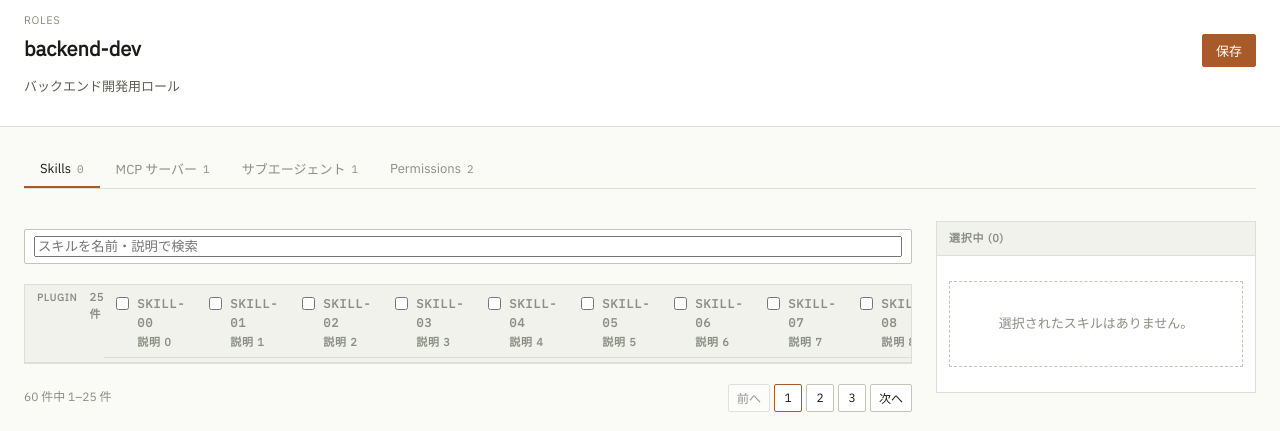
Test: RoleEditor › keeps a checked skill checked after navigating away and back to its page
The width and height of the screenshot is (1280, 431).
Expected: the text "skill-00" is shown, [137, 295, 185, 332]
Click the checkbox labelled "skill-00 説明 0": (123, 304) [116, 297, 129, 310]
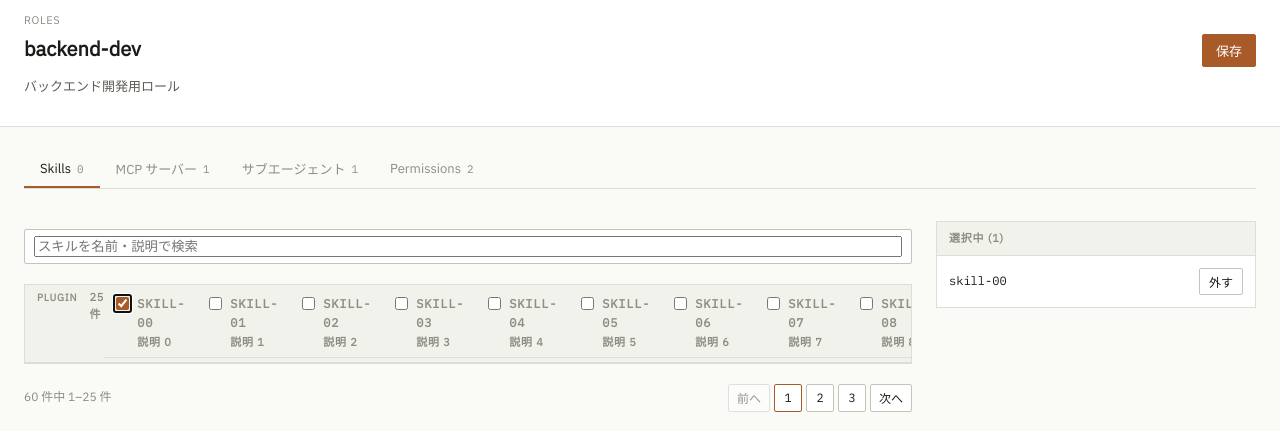
Now the checkbox labelled "skill-00 説明 0" is checked, box [116, 297, 129, 310]
Click the button "次へ": (891, 398) [870, 384, 912, 412]
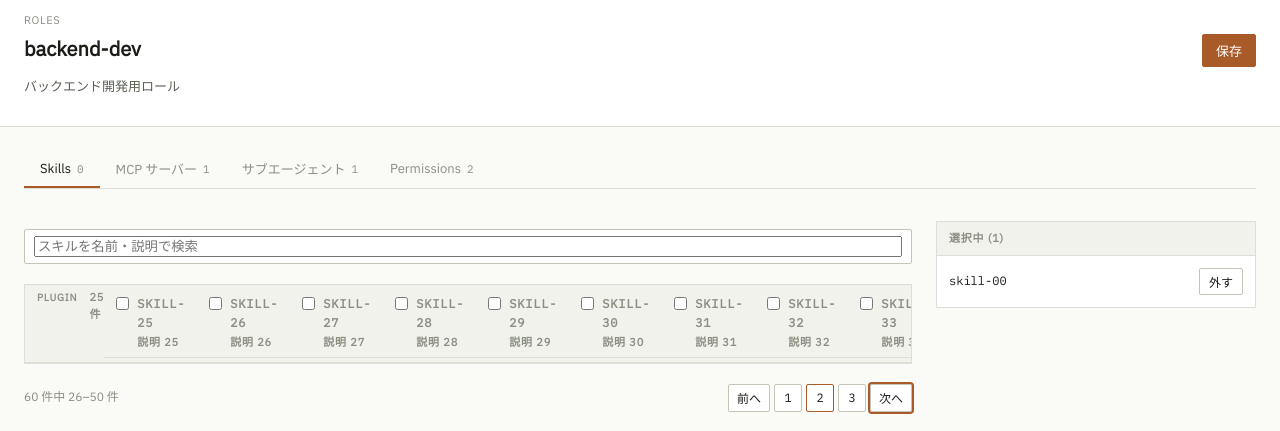
Now the text "skill-25" is shown, box [137, 295, 185, 332]
Click the button "前へ": (749, 398) [728, 384, 770, 412]
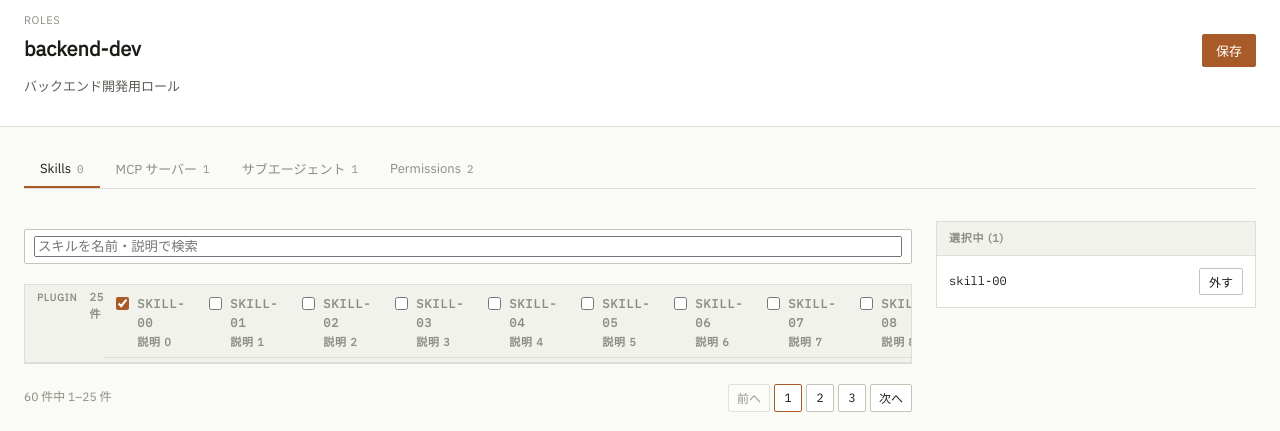
Expected: the text "skill-00" below "選択中 (" is shown, [949, 273, 1007, 288]
Now the text "skill-00" next to "skill-01" is shown, box [137, 296, 185, 330]
Now the checkbox labelled "skill-00 説明 0" is checked, box [116, 297, 129, 310]
